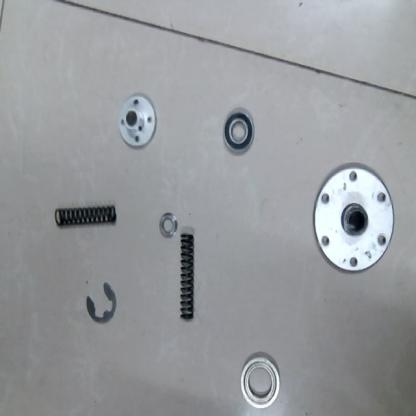FOD: (310, 161, 396, 278), (116, 90, 158, 153), (240, 352, 281, 410), (176, 232, 200, 324), (52, 202, 120, 233), (221, 107, 255, 159), (82, 279, 118, 326), (157, 208, 178, 240)
